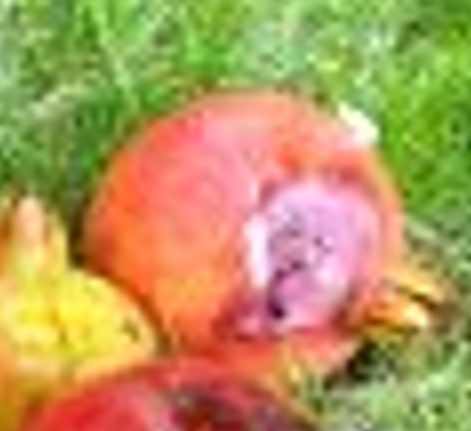pomegranate_C: (78, 87, 461, 396)
